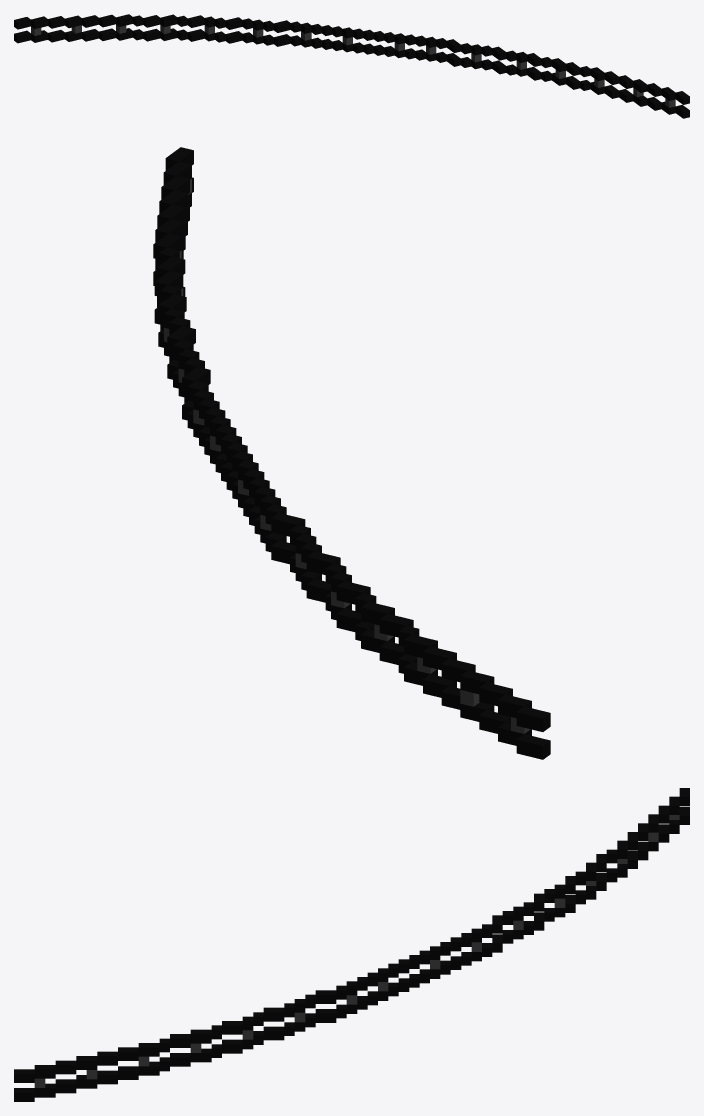
The model's file is 90_Large-6.obj.
3 renders of one model, top to bottom at view 1: azimuth 30°, elevation 25°; view 2: azimuth 150°, elevation 25°; view 3: azimuth 270°, elevation 25°, orthographic. The views are drawn at different scales.
Parts seen in each view (by area): view 1: 90_Large-6; view 2: 90_Large-6; view 3: 90_Large-6.
Part boxes in pixels (bbox=[...]): 90_Large-6: bbox=[14, 14, 689, 118]; 90_Large-6: bbox=[153, 147, 550, 759]; 90_Large-6: bbox=[14, 788, 689, 1101].
Bounding box in the file's own units: 65 × 3 × 65.
1 material, 1 textured.
